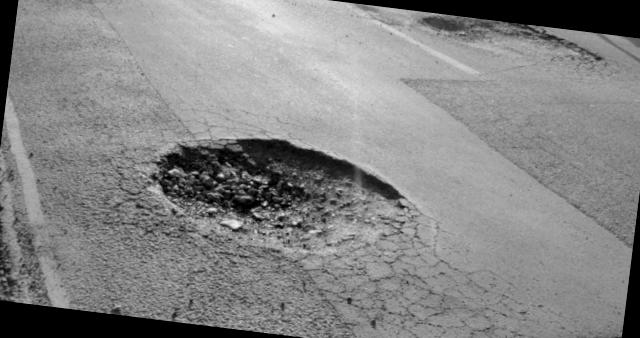Pothole: (130, 109, 420, 274), (392, 9, 610, 84)
